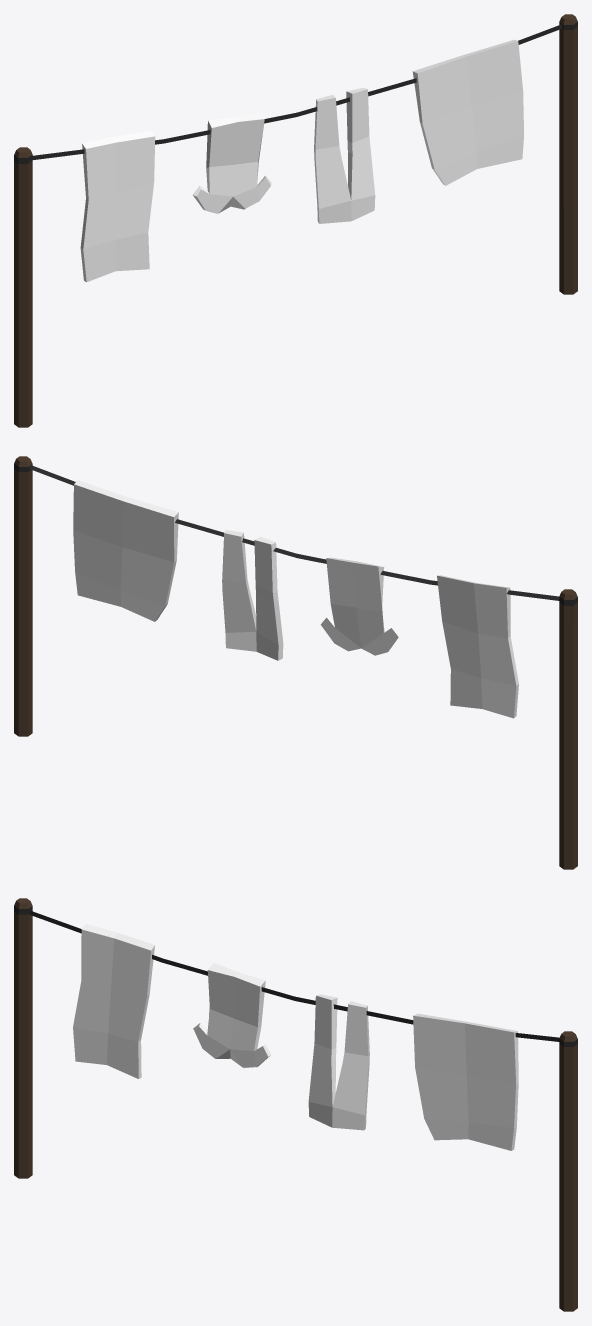
File: dryer-outside.glb
3 renders of one model, top to bottom at view 1: azimuth 30°, elevation 25°; view 2: azimuth 150°, elevation 25°; view 3: azimuth 330°, elevation 25°, orthographic.
Parts seen in each view (by area): view 1: dryer-outside-clothes, dryer-outside-base; view 2: dryer-outside-clothes, dryer-outside-base; view 3: dryer-outside-clothes, dryer-outside-base.
Boxes of the visible parts, left/top/right/bottom form: dryer-outside-clothes: left=80, top=39, right=523, bottom=282; dryer-outside-base: left=14, top=14, right=577, bottom=427; dryer-outside-clothes: left=73, top=480, right=518, bottom=718; dryer-outside-base: left=14, top=456, right=577, bottom=869; dryer-outside-clothes: left=73, top=924, right=518, bottom=1150; dryer-outside-base: left=14, top=898, right=577, bottom=1311.
Bounding box in the file's own units: 4.11 × 1.92 × 0.1834.
Materials: 1 (1 with a texture image).
